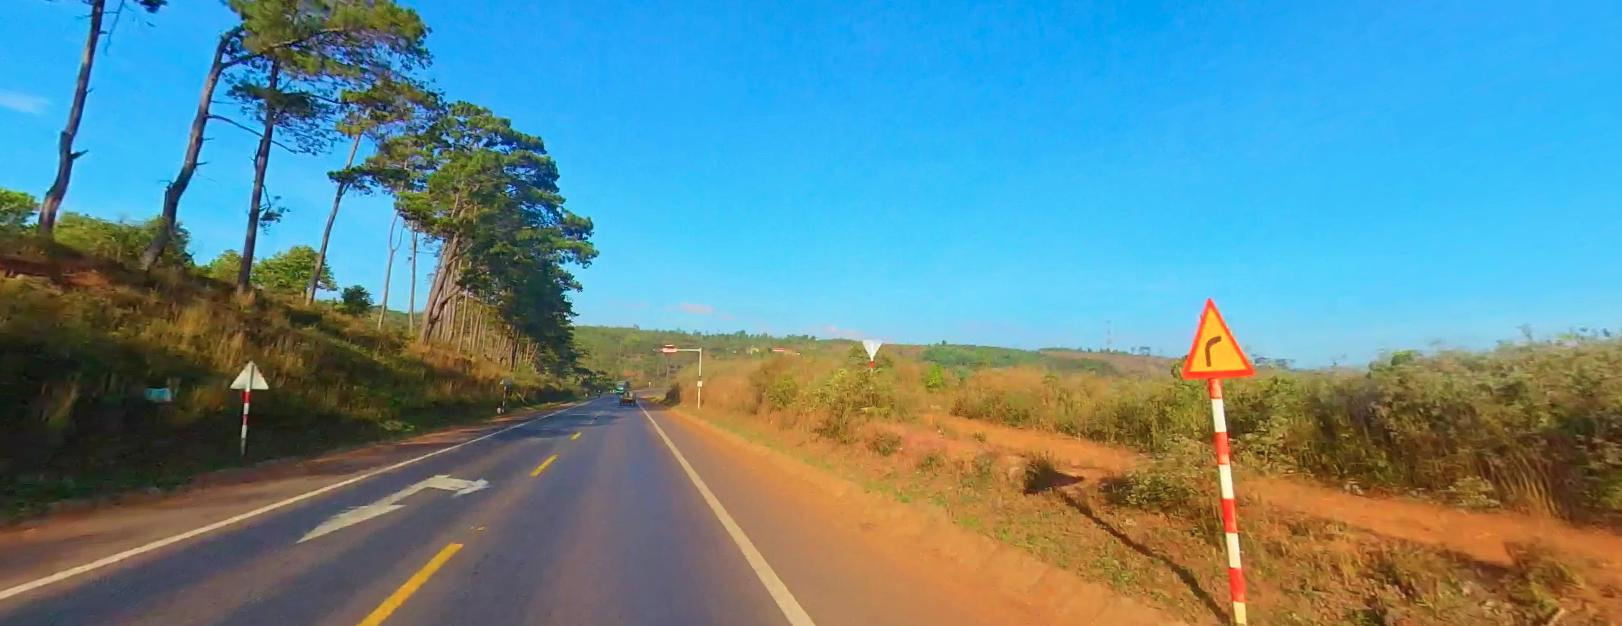Nguy hiem: (1182, 296, 1256, 378)
